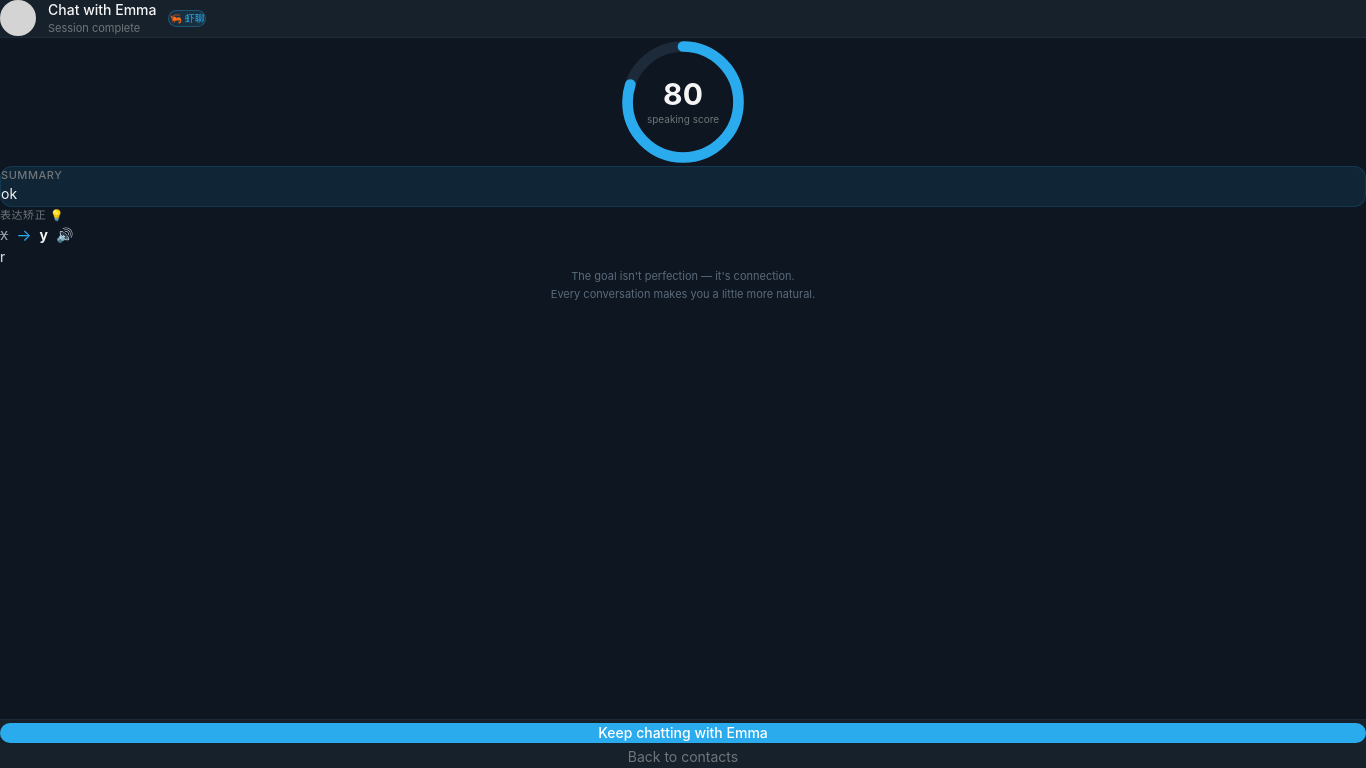
Test: EndReview — 点词释义 (T05) › old review missing wordDefs does not crash and degrades gracefully
The width and height of the screenshot is (1366, 768).
Step 1. Click the button "y" → {"x": 44, "y": 235}, box [40, 225, 48, 245]
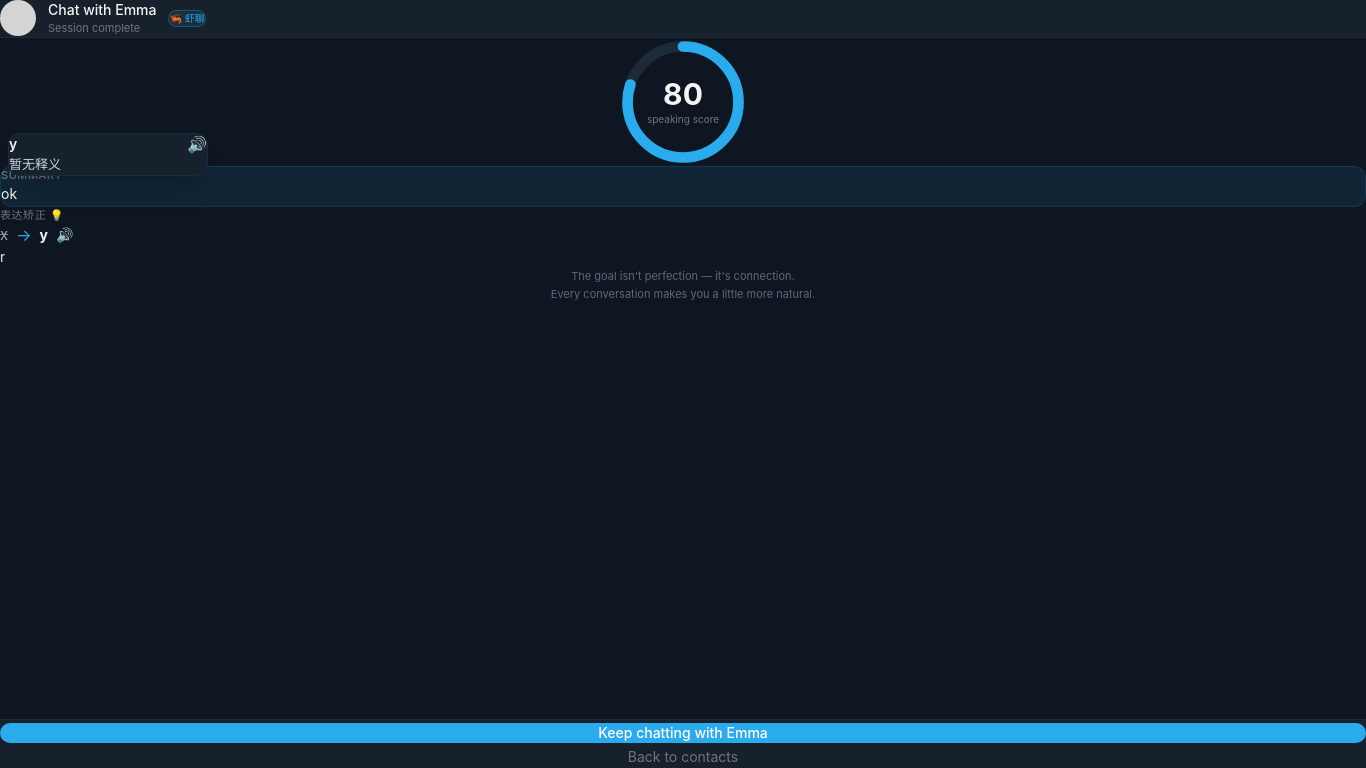
Now the text "暂无释义" is shown, box [9, 156, 61, 172]
